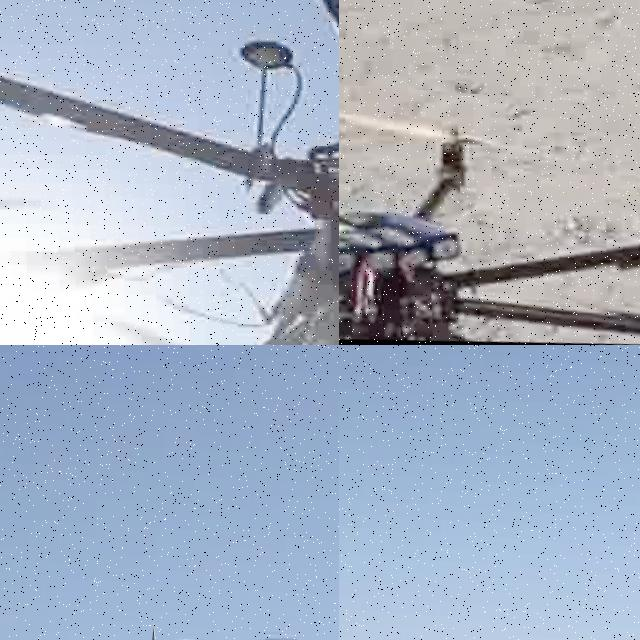drone: (0, 0, 339, 345), (339, 65, 640, 345)
